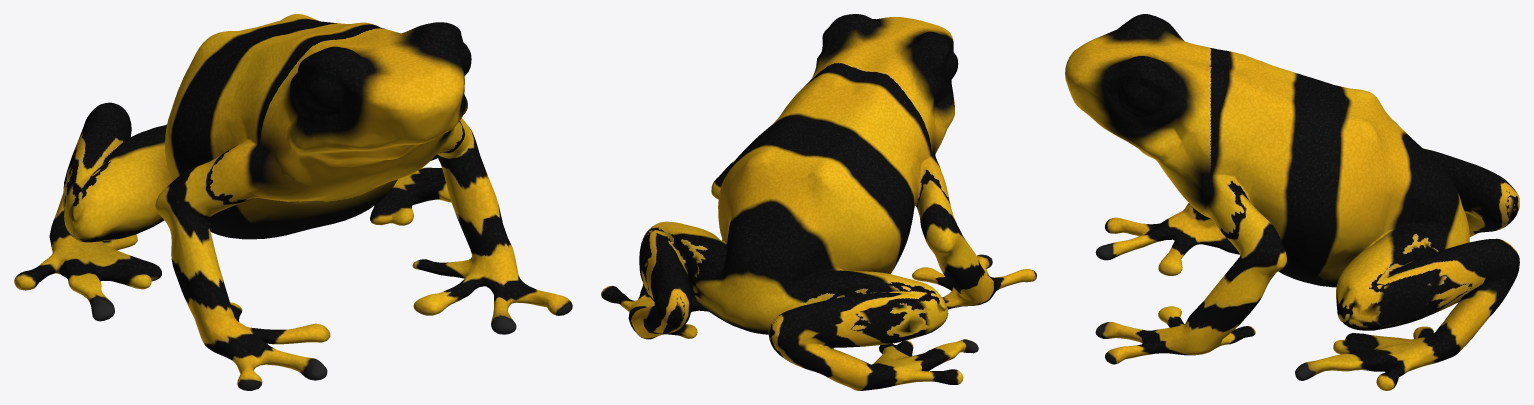
The model's file is leucomelas.glb.
The picture shows the model from 3 angles, left to right: view 1: azimuth 30°, elevation 25°; view 2: azimuth 150°, elevation 25°; view 3: azimuth 270°, elevation 25°; orthographic projection. The views are drawn at different scales.
Visible parts, largest first — view 1: leucomelas; view 2: leucomelas; view 3: leucomelas.
Part boxes in pixels (<box>): leucomelas: <box>14,14,572,390</box>; leucomelas: <box>601,14,1036,390</box>; leucomelas: <box>1065,14,1519,390</box>.
Bounding box in the file's own units: 0.045 × 0.0286 × 0.045.
1 material, 1 textured.
